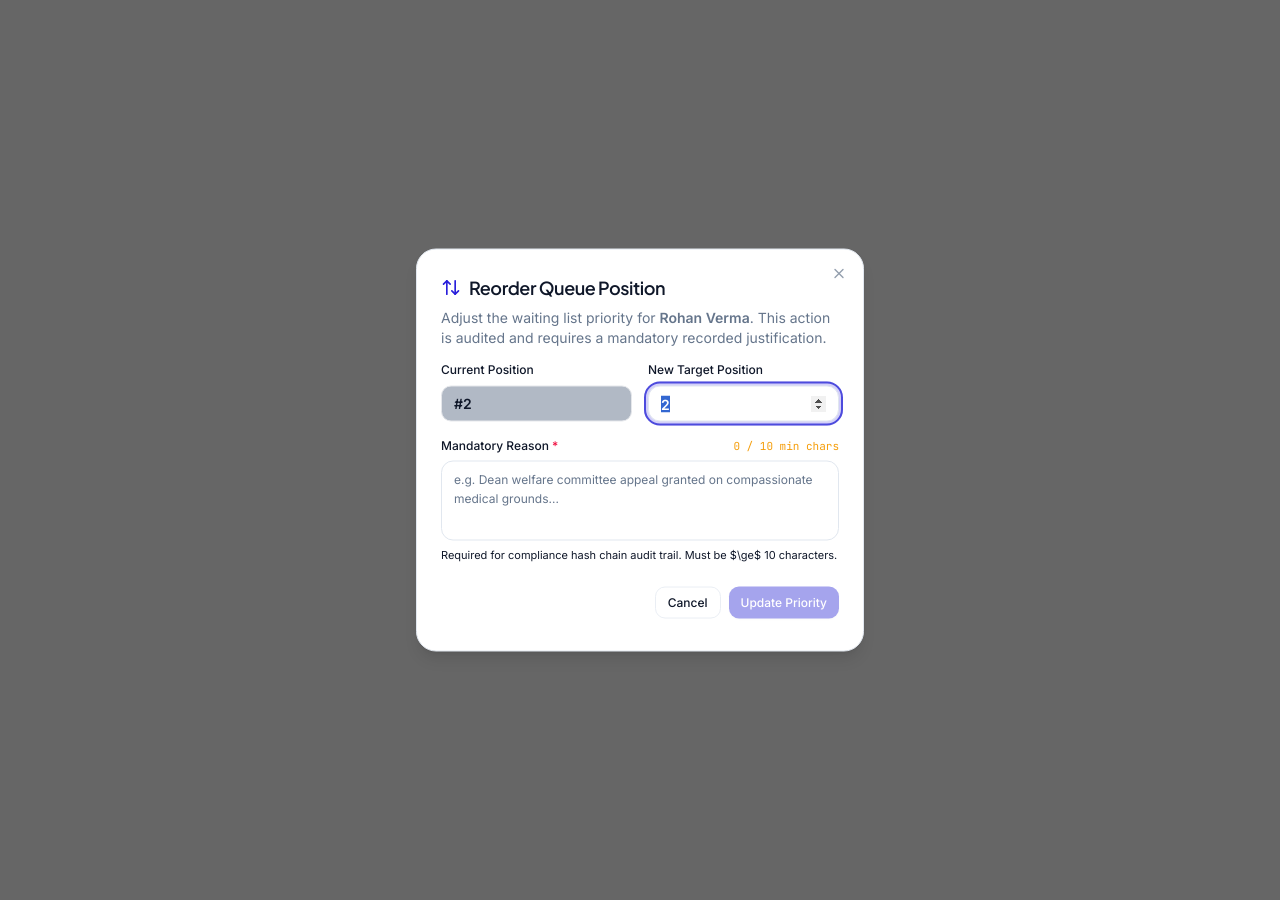
Test: Warden Waitlist Components › ReorderModal enforces mandatory reason >= 10 characters
Expected: the heading "Reorder Queue Position" is shown, top-left (441, 276), bottom-right (665, 298)
Expected: the text "Rohan Verma" is shown, top-left (660, 308), bottom-right (750, 326)
Replace the text in the text box with placeholder "e.g. Dean welfare" with "Short" at (640, 500), box top-left (441, 460), bottom-right (839, 540)
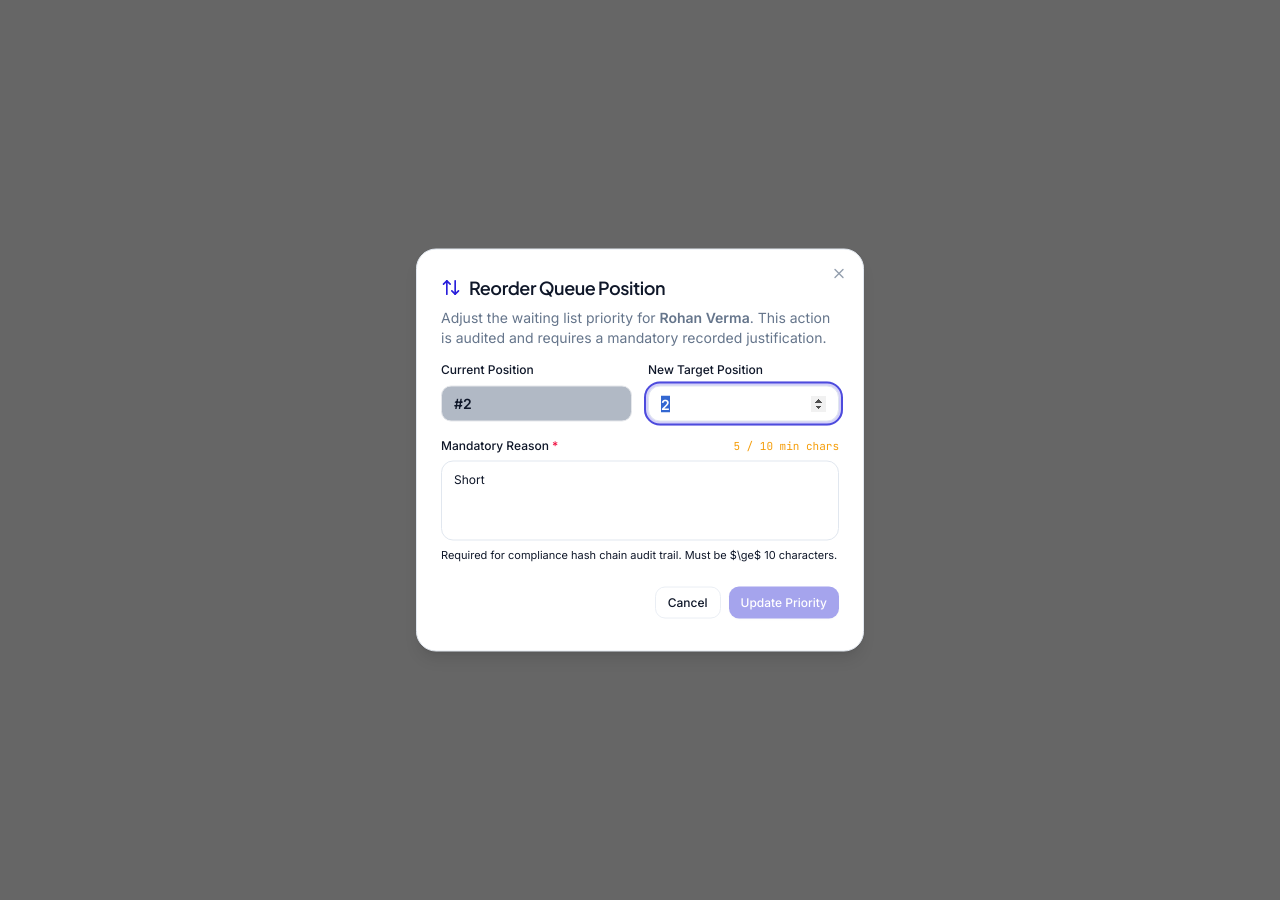
Expected: the button "Update Priority" is disabled, top-left (728, 586), bottom-right (839, 618)
Replace the text in the text box with placeholder "e.g. Dean welfare" with "Compassionate ground reordering" at (640, 500), box top-left (441, 460), bottom-right (839, 540)
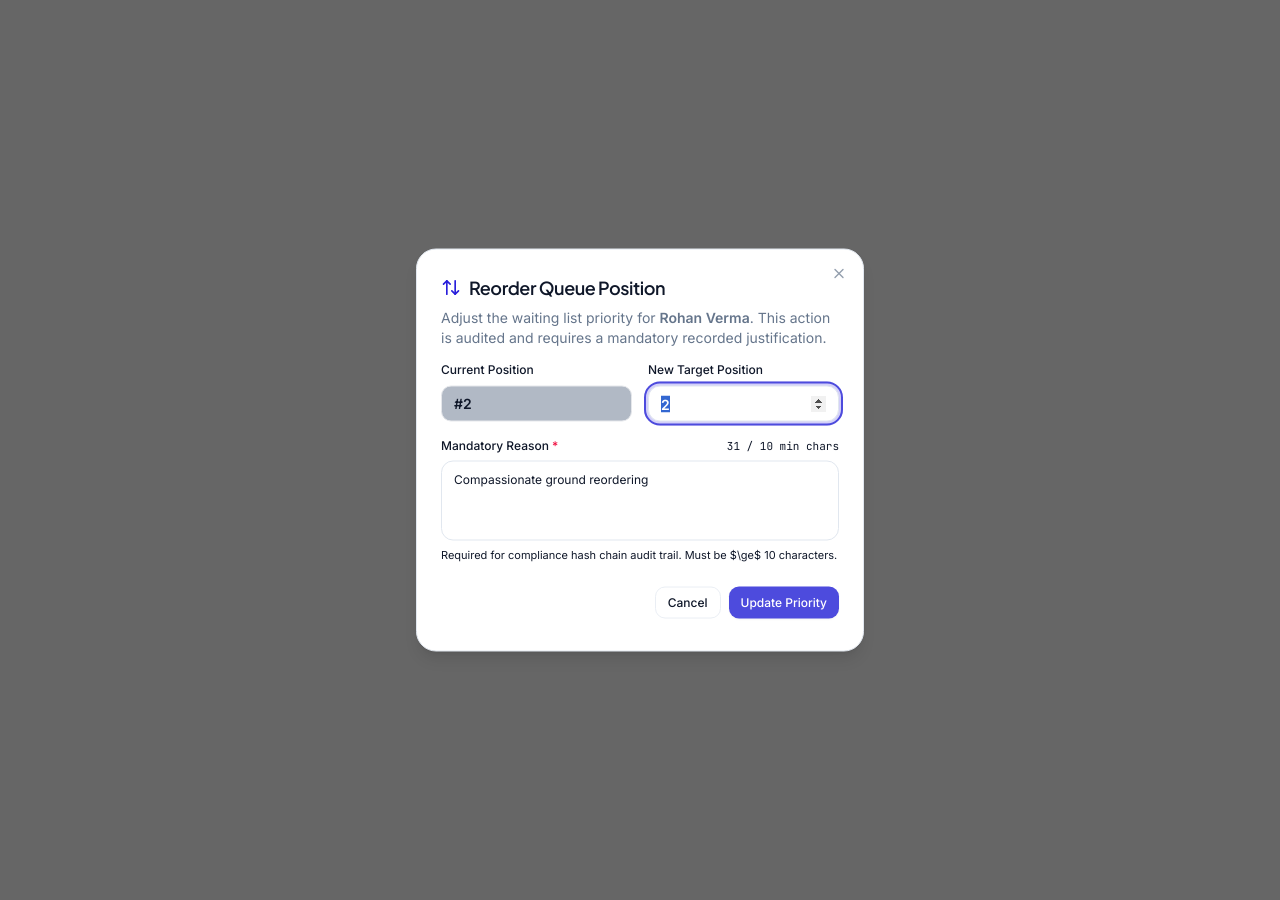
Result: the button "Update Priority" is enabled at top-left (728, 586), bottom-right (839, 618)
